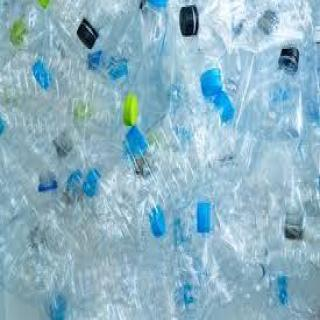Plastic-bottle: (188, 183, 320, 288), (142, 85, 246, 206), (57, 61, 142, 152), (85, 181, 174, 260), (258, 45, 313, 151), (176, 1, 253, 69), (73, 1, 141, 52)
